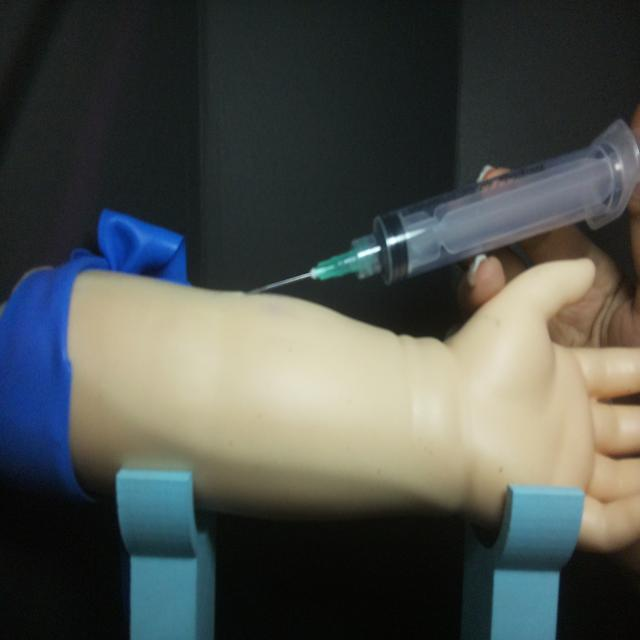18deg: (243, 114, 637, 300)
